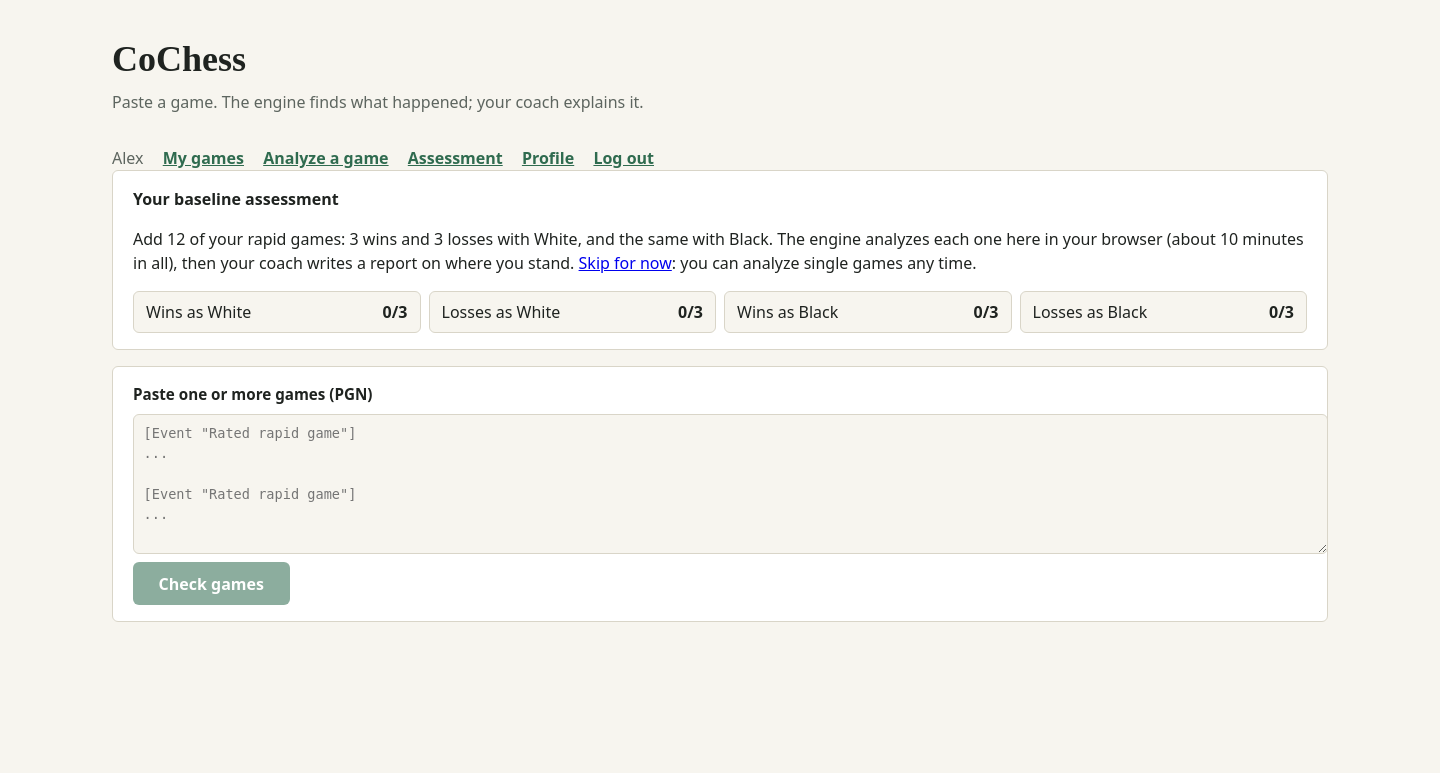
adding games › the paste becomes a table; the player settles each game; usable games are added
Replace the text in the text box labelled "Paste one or more games (PGN)" with "three games": (731, 484) [133,414,1328,554]
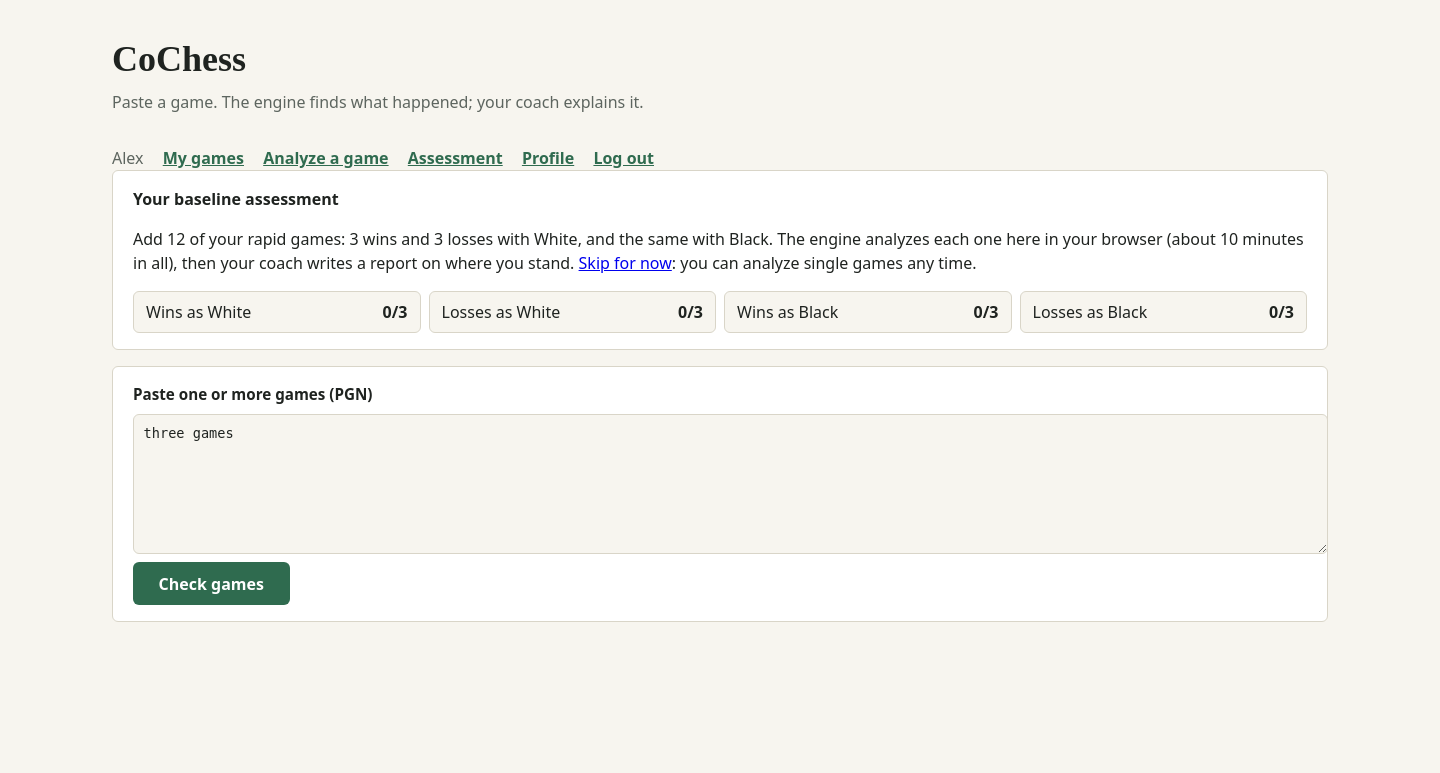
Click the button "Check games": (211, 584) [133,562,290,605]
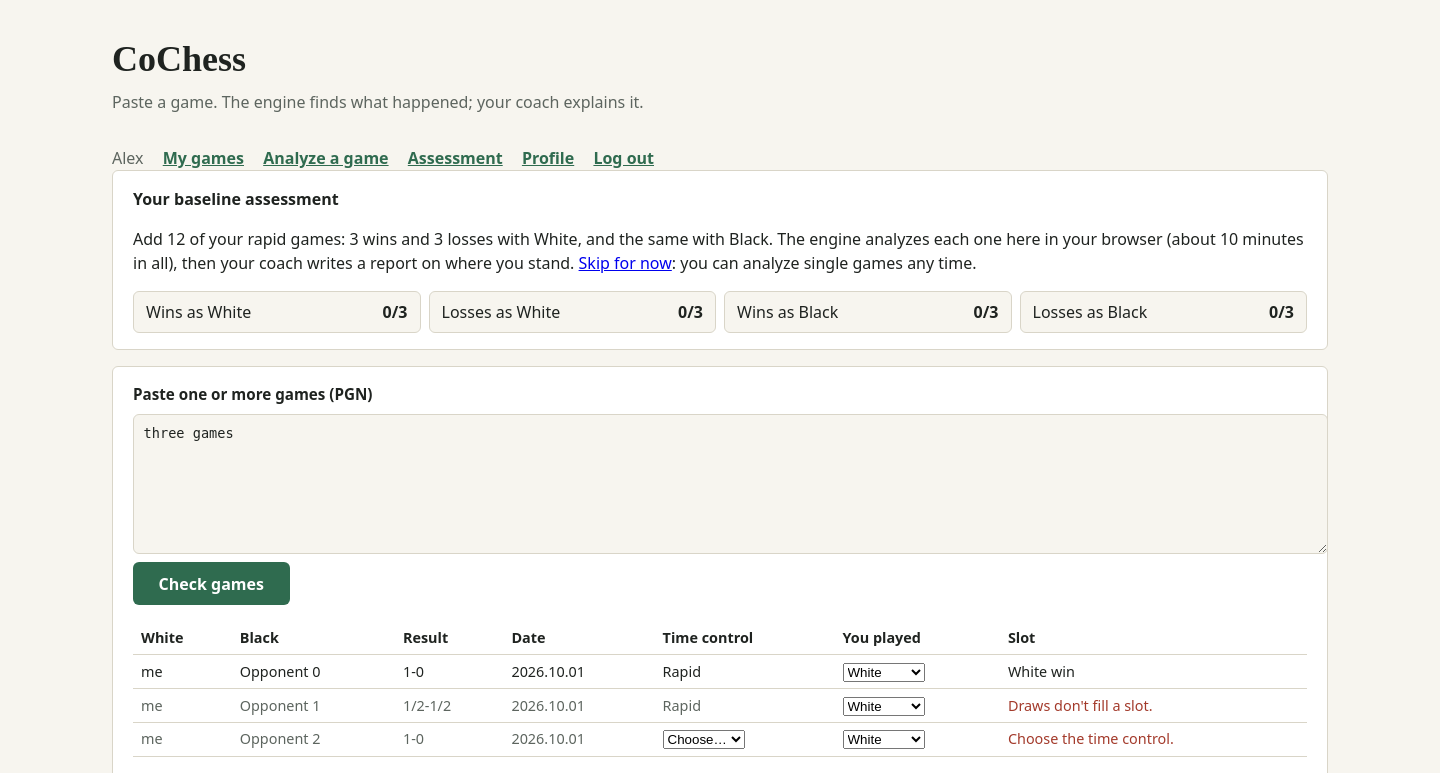
Expected: the text "Draws don't fill a slot." is shown, [1008,696,1153,714]
Expected: the text "Choose the time control." is shown, [1008,729,1174,748]
Select "Rapid" in the dropdown named "Time control for game 3": (704, 740) [663,730,745,749]
(page scrolled)
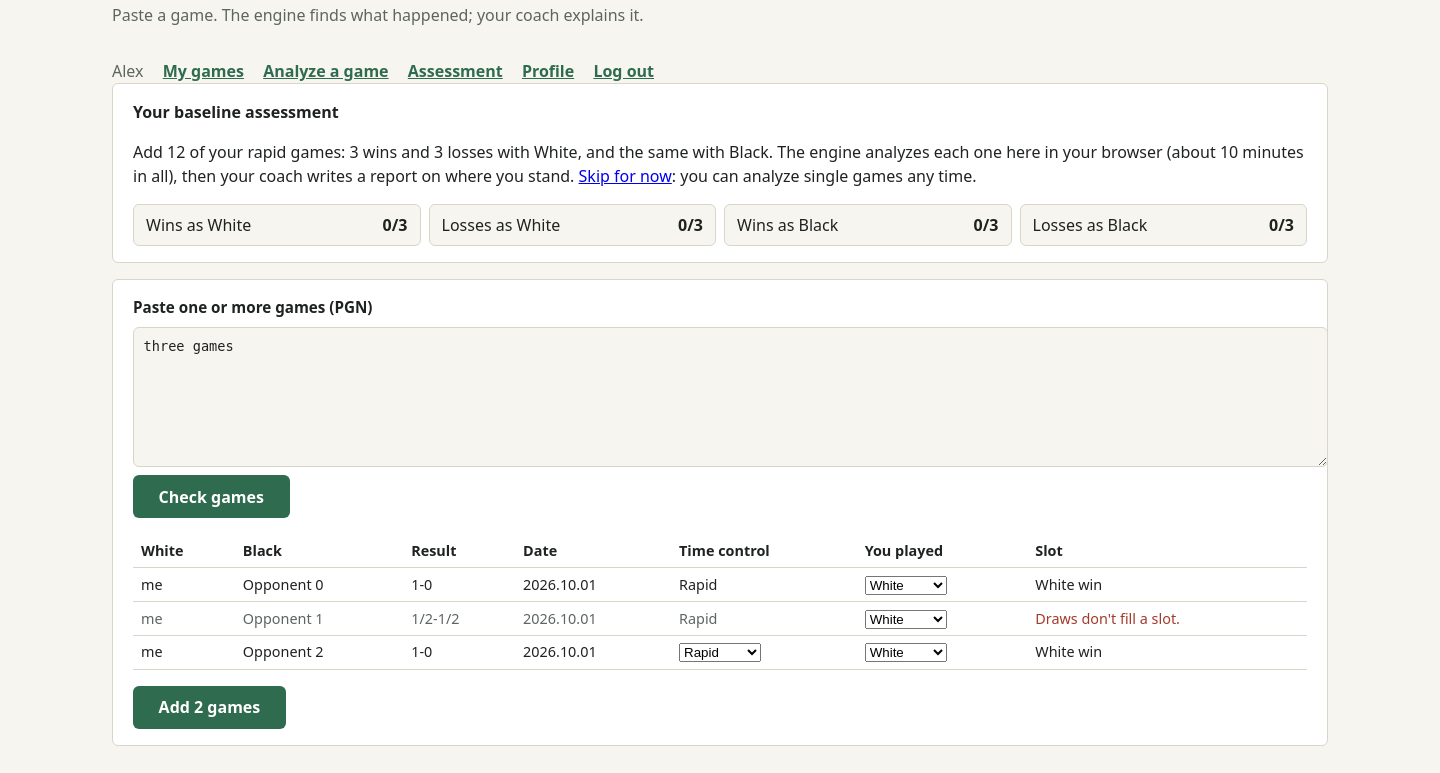
Click the button "Add 2 games": (209, 707) [133,686,286,729]
(page scrolled)
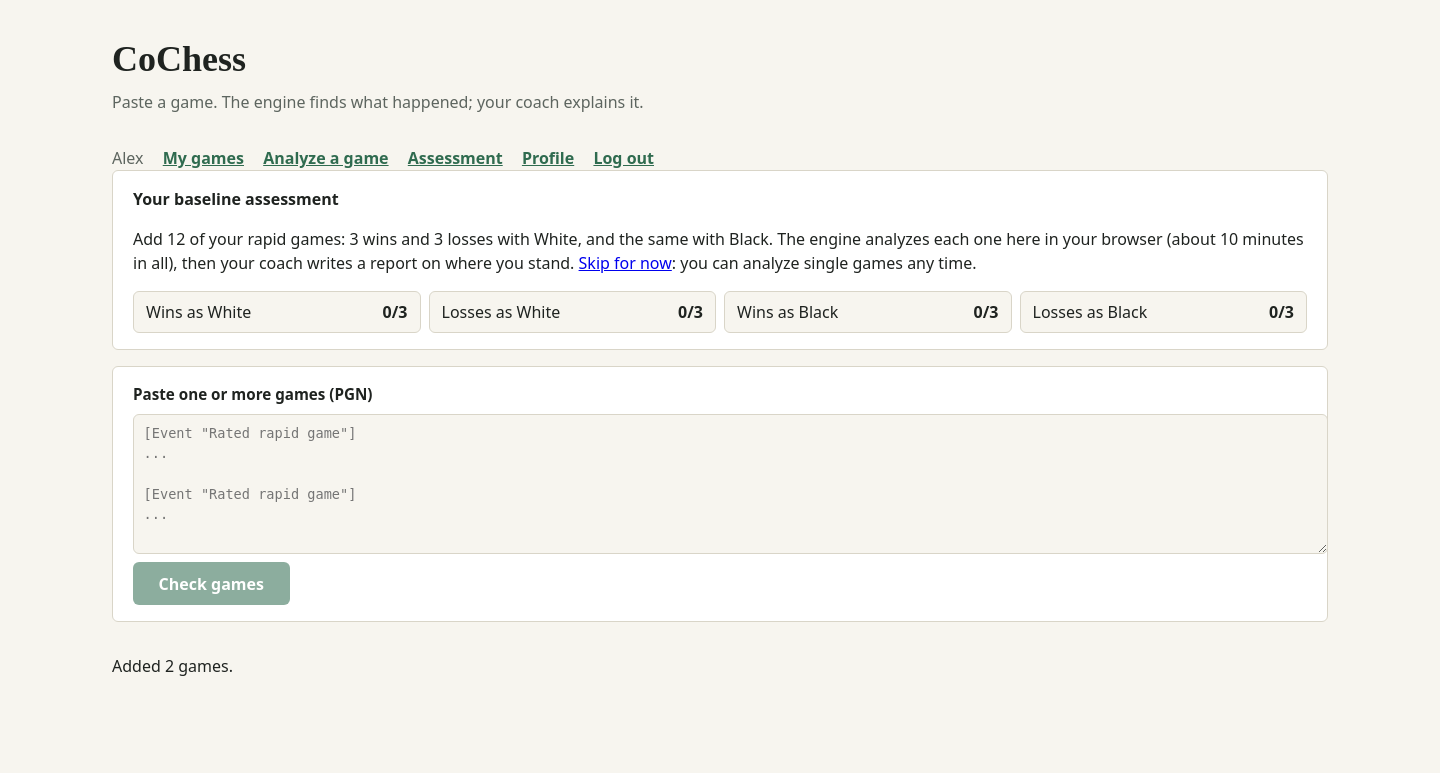
Expected: the text "Added 2 games." is shown, [112,655,233,677]
